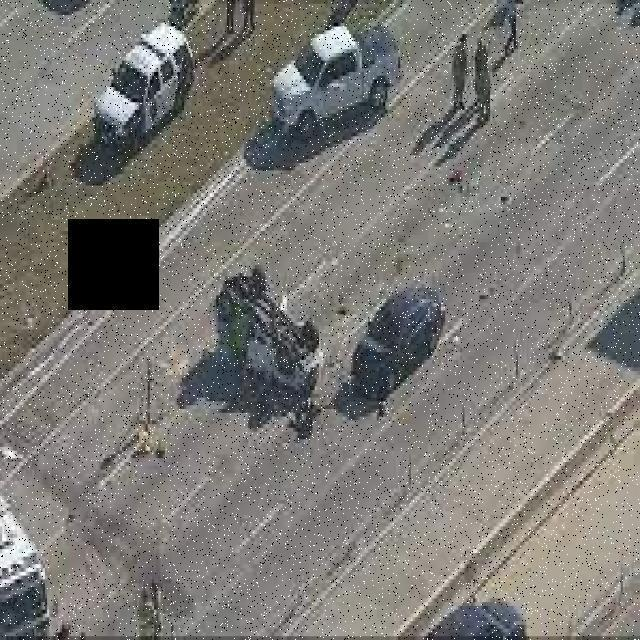multiple_accident: (197, 235, 449, 438)
normal: (243, 15, 418, 163), (55, 22, 205, 153)
